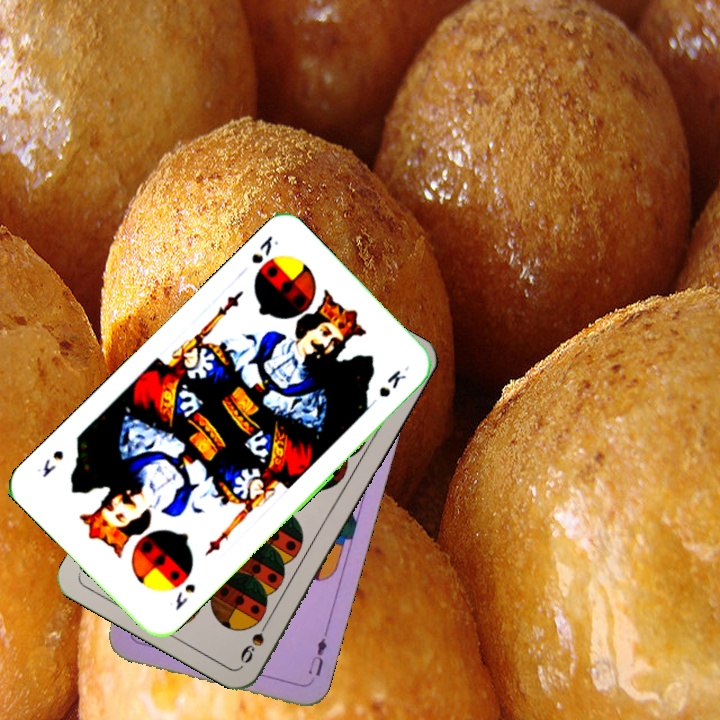EU: (303, 627, 330, 679)
S9: (236, 613, 273, 666)
SK: (247, 231, 281, 267), (171, 579, 198, 614)
